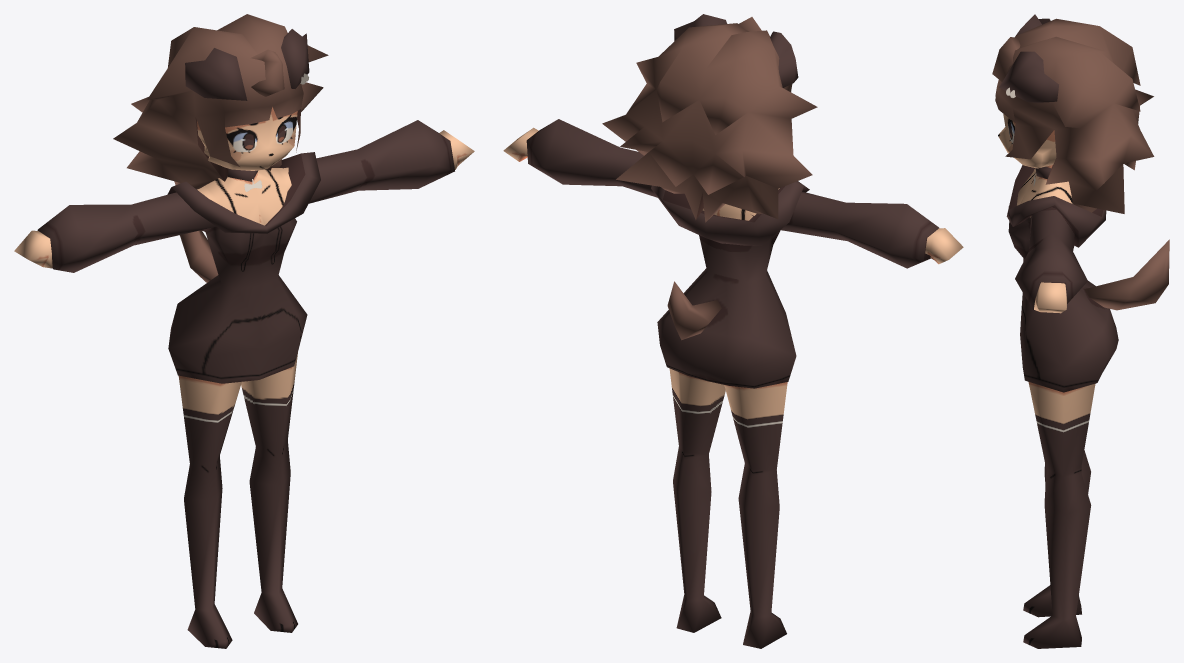
File: mimi_typh_lowpoly.glb
3 views of the same model, side by side, from view 1: azimuth 30°, elevation 25°; view 2: azimuth 150°, elevation 25°; view 3: azimuth 270°, elevation 25° (orthographic).
Parts seen in each view (by area): view 1: 2_MimiBase_0; view 2: 2_MimiBase_0; view 3: 2_MimiBase_0.
Boxes of the visible parts, x1,y1,x2,y2 form: 2_MimiBase_0: (14,14,474,648); 2_MimiBase_0: (503,14,963,648); 2_MimiBase_0: (992,14,1169,648).
Bounding box in the file's own units: 1.28 × 1.64 × 0.4437.
Materials: 1 (1 with a texture image).
